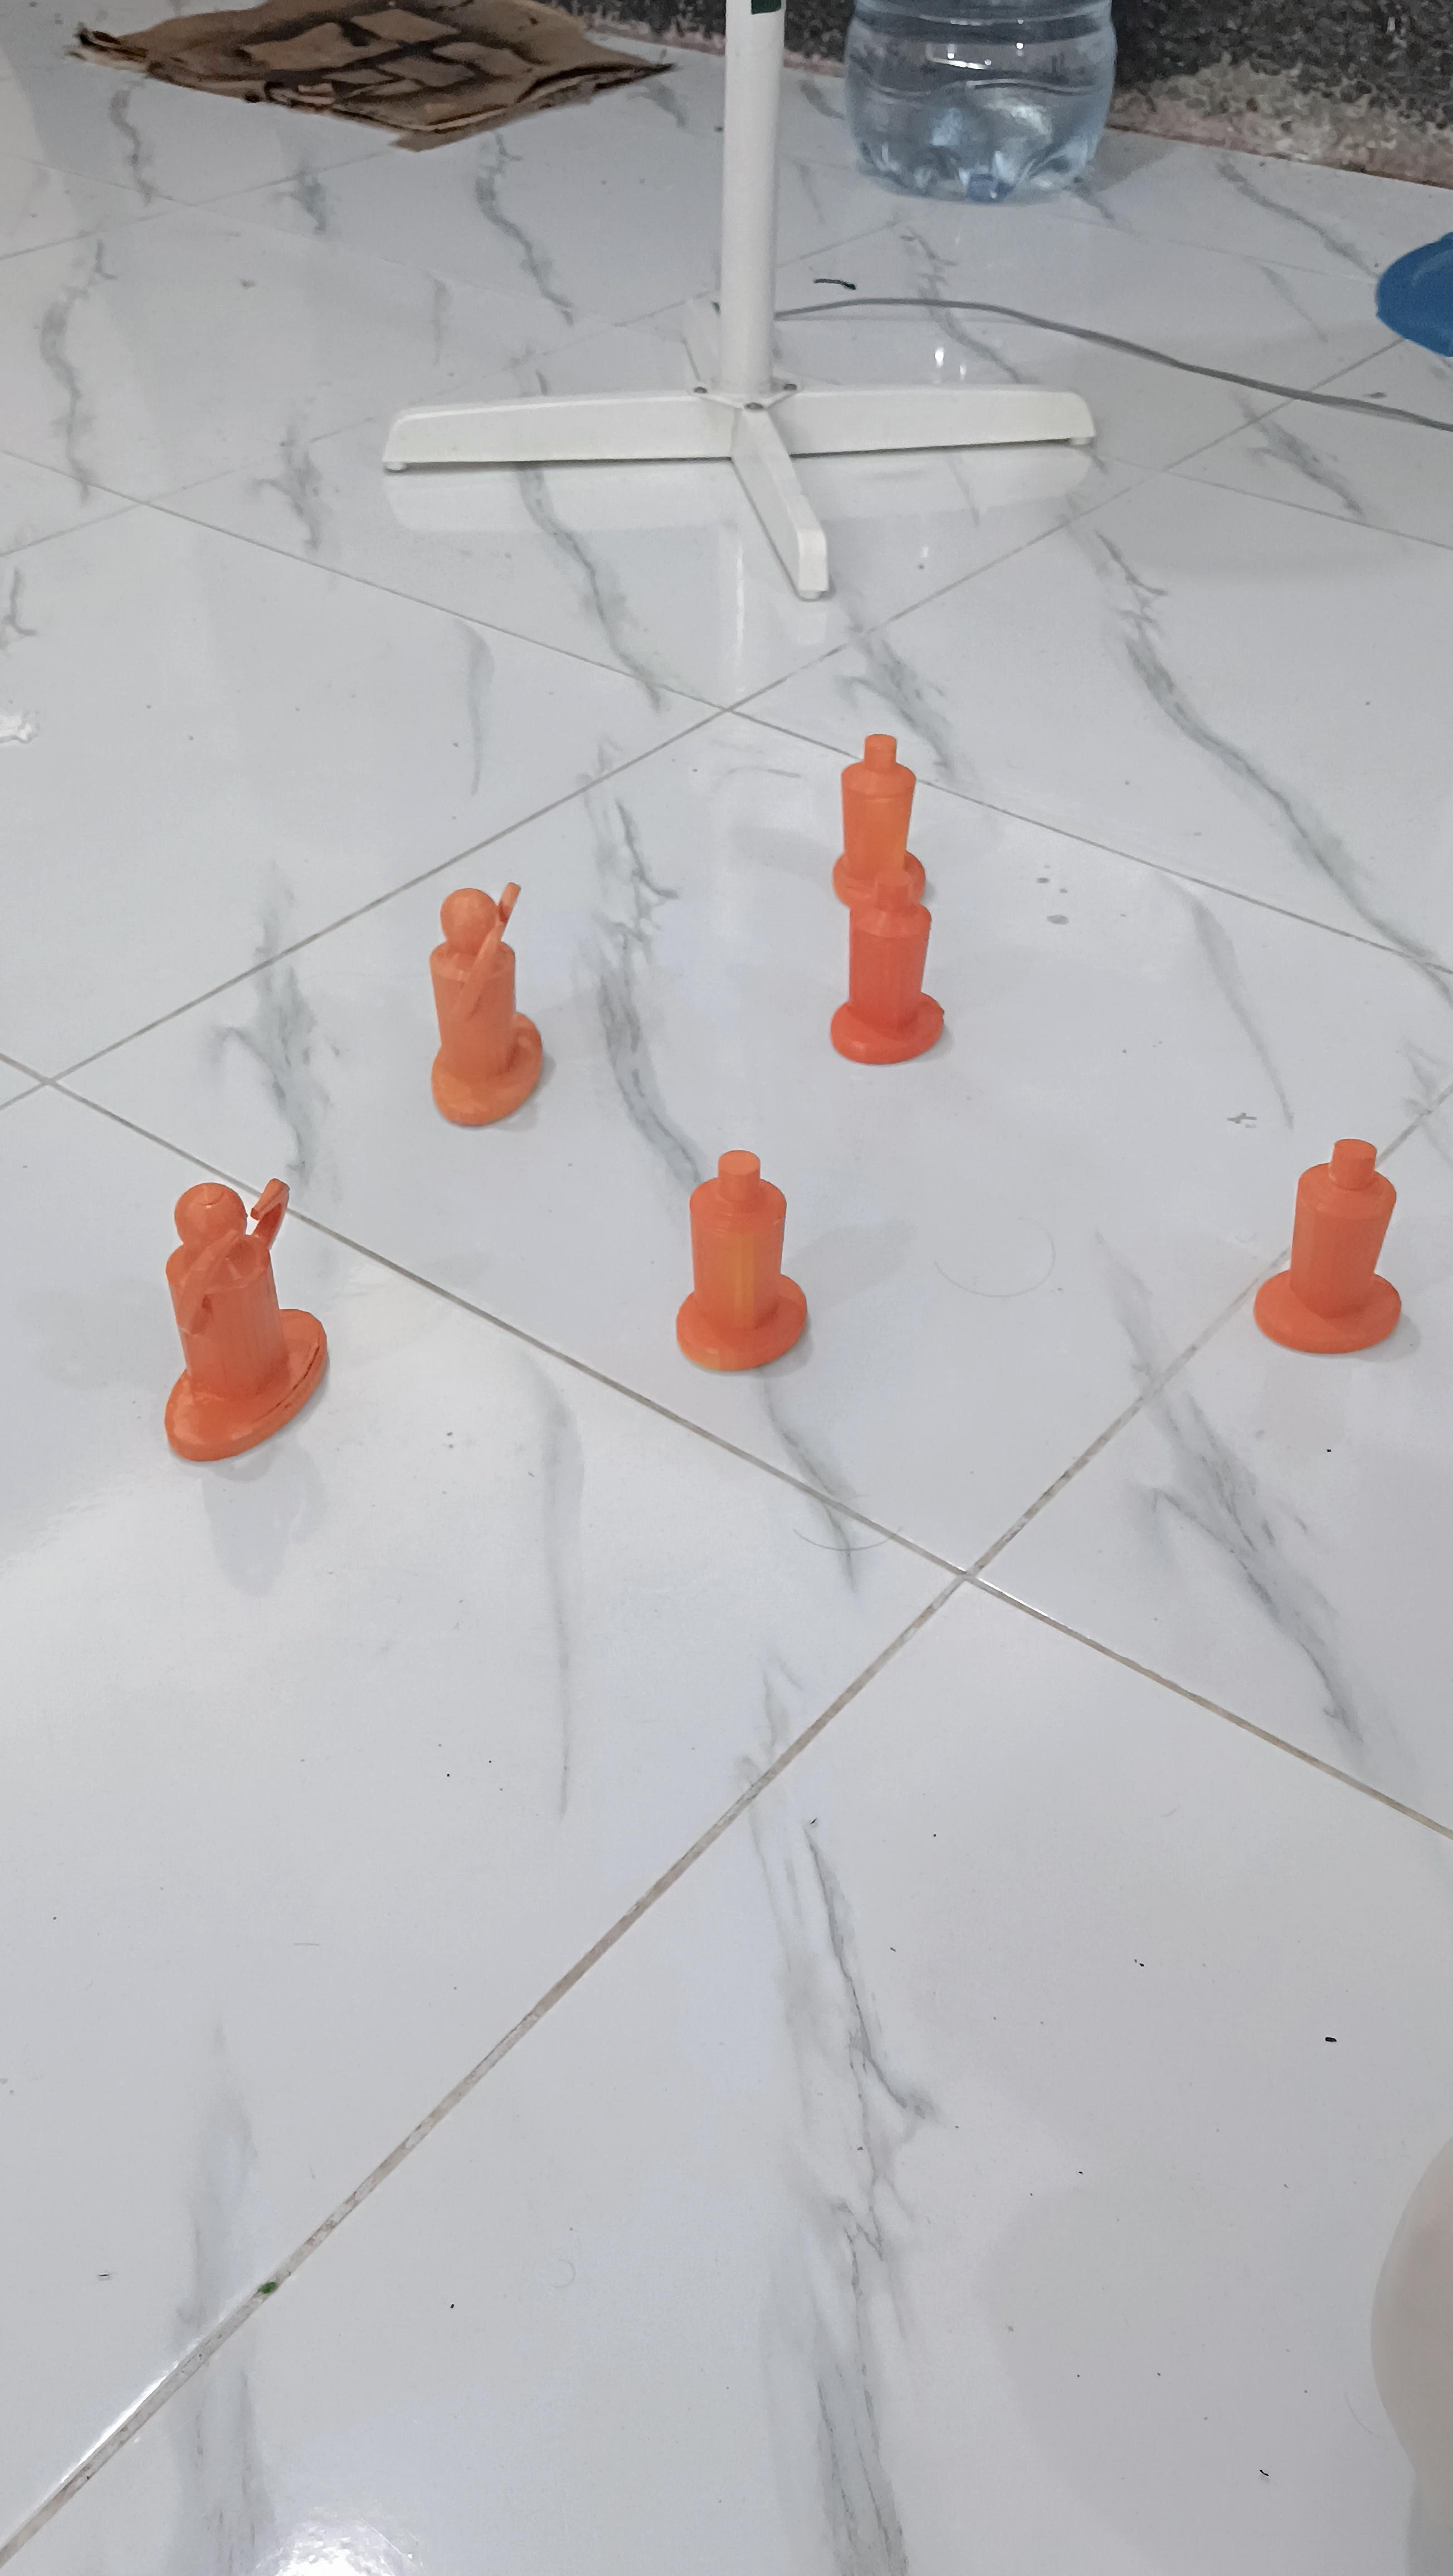dummy: (1242, 1109, 1416, 1386), (660, 1131, 835, 1390), (823, 875, 965, 1074), (813, 710, 939, 876)
real_person: (78, 1156, 357, 1482), (379, 872, 575, 1150)
